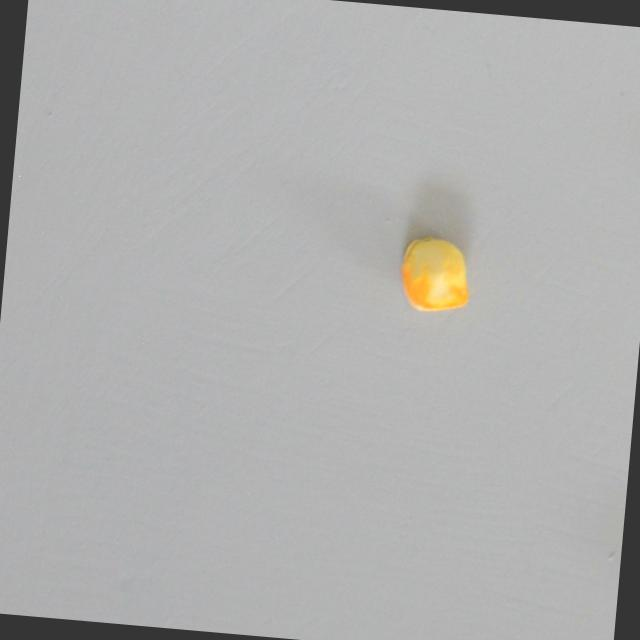pelicula: (371, 214, 497, 340)
